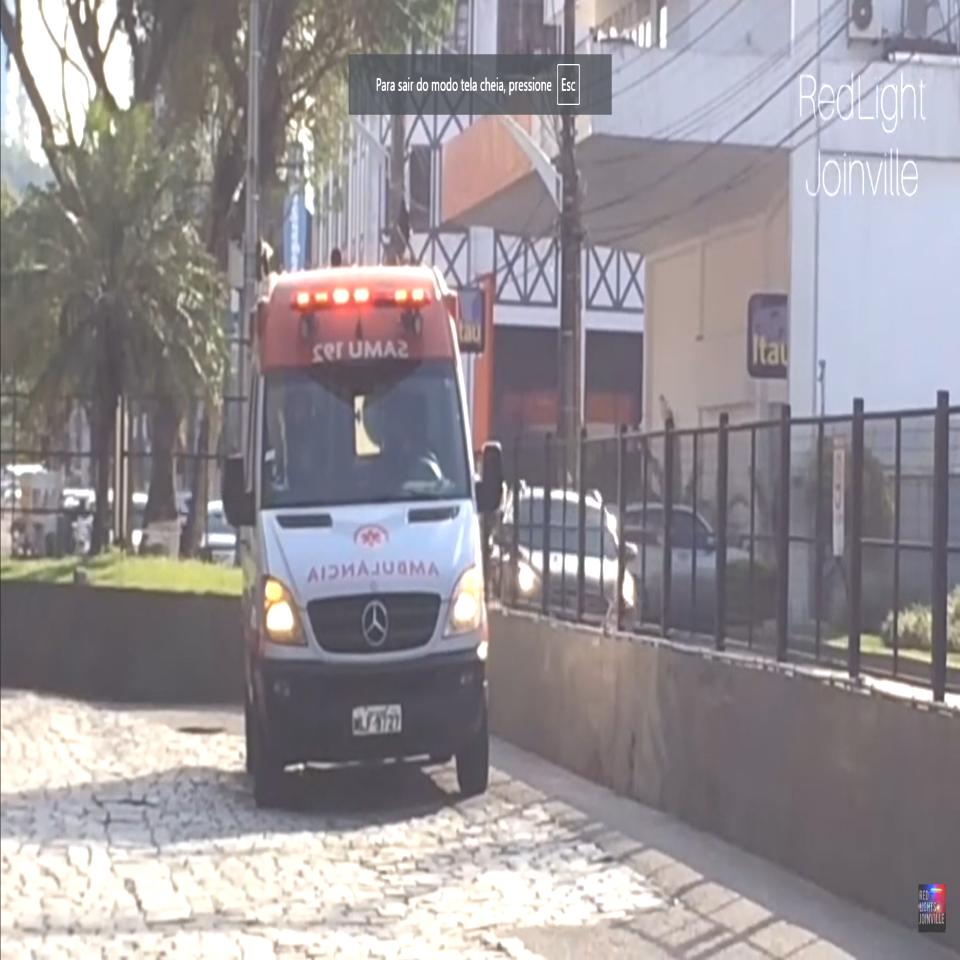ambulancia: (220, 256, 506, 808)
